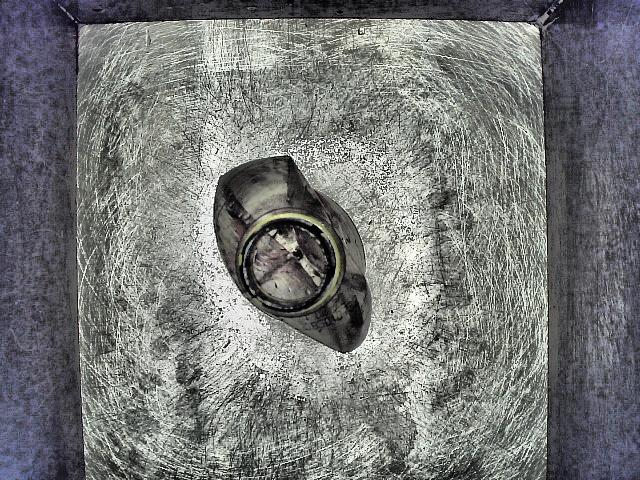Bottles: (133, 87, 403, 375)
